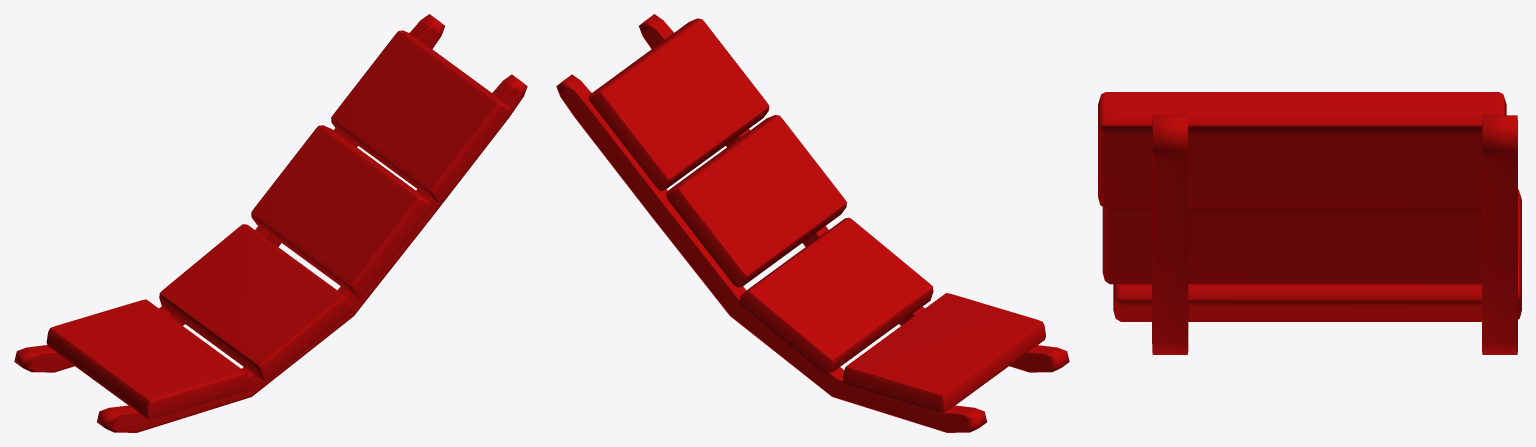
Rendered from SM_BoardCurve.fbx.
The picture shows the model from 3 angles, left to right: view 1: azimuth 30°, elevation 25°; view 2: azimuth 150°, elevation 25°; view 3: azimuth 270°, elevation 25°; orthographic projection. The views are drawn at different scales.
Visible parts, largest first — view 1: SM_BoardCurve; view 2: SM_BoardCurve; view 3: SM_BoardCurve.
Part boxes in pixels (<box>): SM_BoardCurve: <box>14,14,527,432</box>; SM_BoardCurve: <box>556,14,1069,432</box>; SM_BoardCurve: <box>1098,92,1521,354</box>.
Size of the model in its own units: 73.81 by 43.19 by 32.08.
